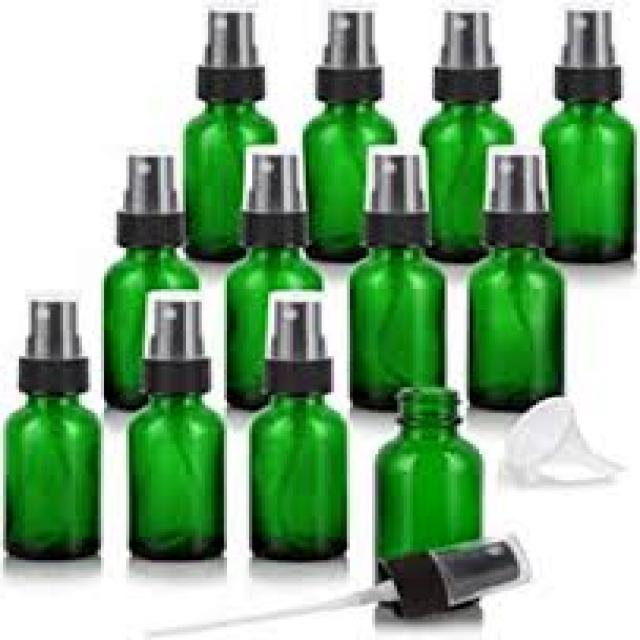Glass: (245, 387, 358, 565), (0, 384, 110, 564), (299, 93, 417, 260), (124, 390, 233, 566), (464, 242, 572, 414), (369, 388, 482, 552), (422, 100, 526, 261), (543, 90, 637, 265)
